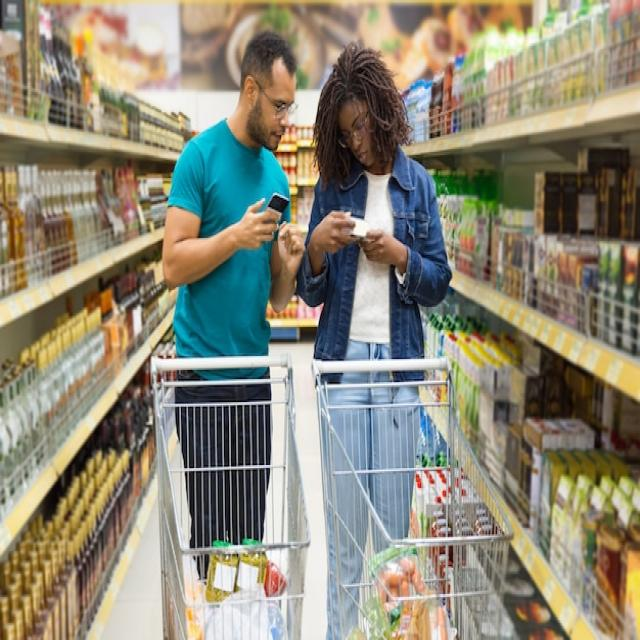Person: (296, 43, 451, 640), (162, 31, 305, 546)
